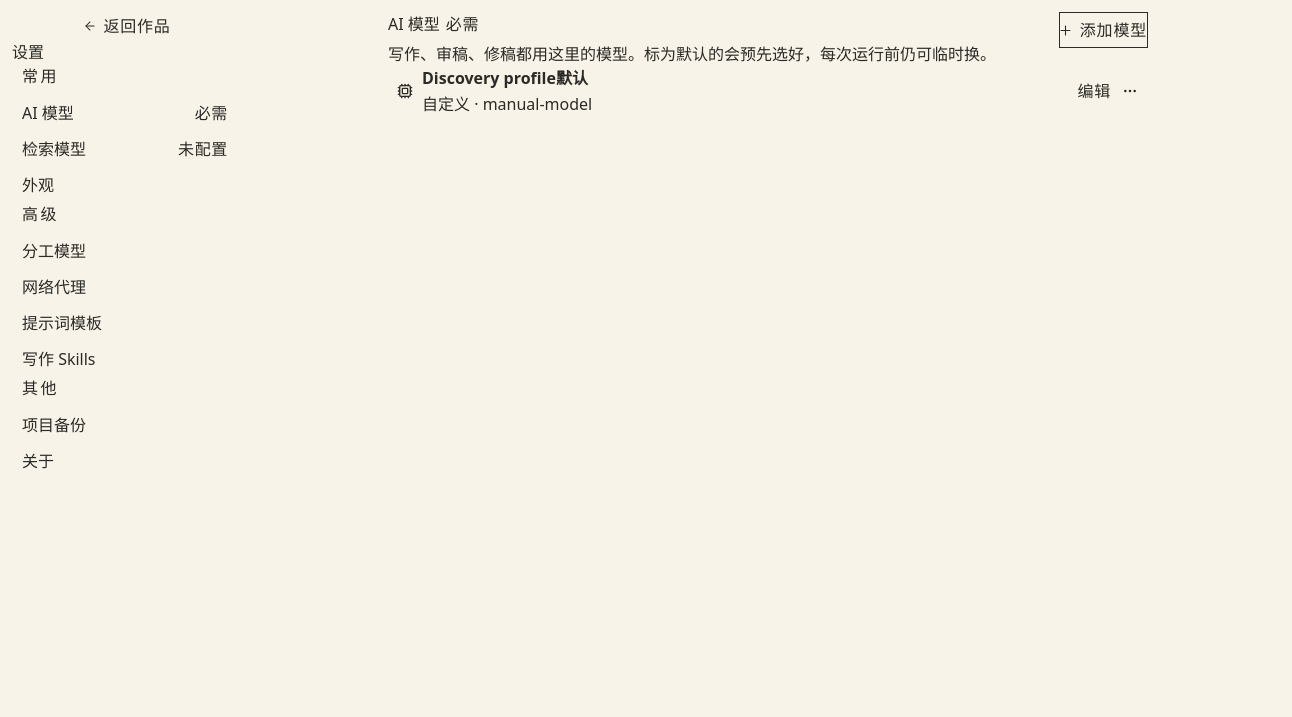
Test: model discovery settings flow › 上下文窗口来源标签 › zh-CN 下档案 {} 显示 默认值
The image size is (1292, 717).
Click the button with aria-label "编辑「".
click(1094, 91)  # box [1076,77,1112,105]
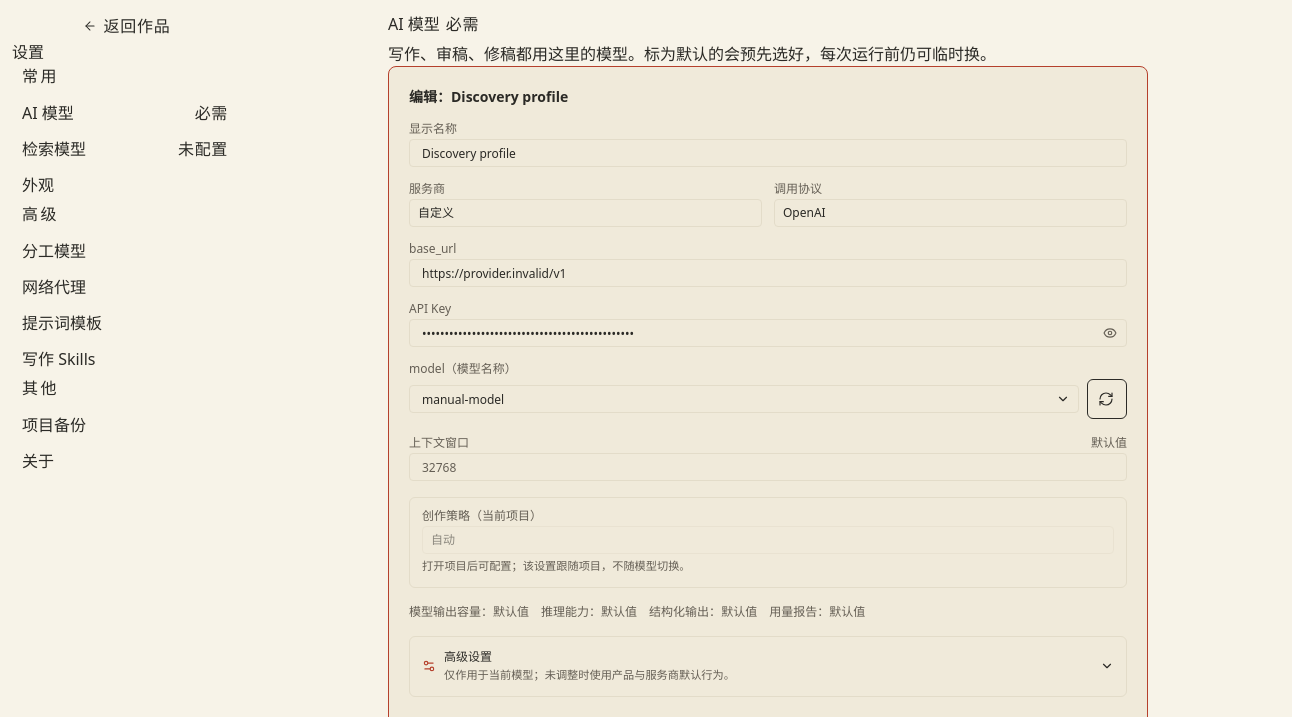
Now the text "默认值" is shown, box [1091,435,1127,451]
